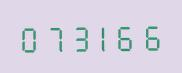one: (90, 20, 113, 52)
seven: (41, 20, 64, 53)
six: (114, 19, 137, 52), (138, 19, 161, 51)
three: (66, 20, 89, 53)
zero: (17, 21, 40, 53)
